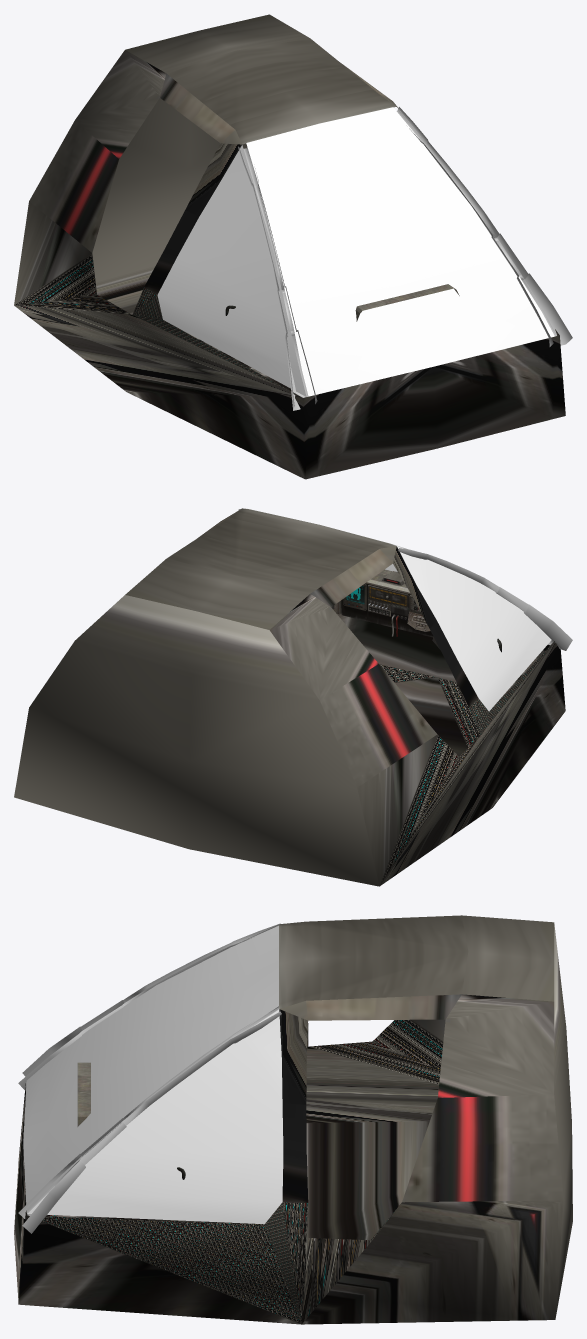
3 views of the same model, one above another, from view 1: azimuth 30°, elevation 25°; view 2: azimuth 150°, elevation 25°; view 3: azimuth 270°, elevation 25° (orthographic). The views are drawn at different scales.
Visible parts, largest first — view 1: case, window, Motion Box, cokpit; view 2: case, window, cokpit, Motion Box; view 3: case, window, Motion Box, cokpit.
Part boxes in pixels (x1,y1,x2,y2): case: (14,14,565,479); window: (157,107,556,396); Motion Box: (238,107,572,410); cokpit: (225,284,459,321); case: (14,508,565,886); window: (247,508,551,711); cokpit: (331,569,501,652); Motion Box: (238,509,572,650); case: (14,915,572,1324); window: (23,924,283,1224); Motion Box: (18,923,281,1233); cokpit: (77,1062,185,1179).
Bounding box in the file's own units: 669 × 446 × 786.
